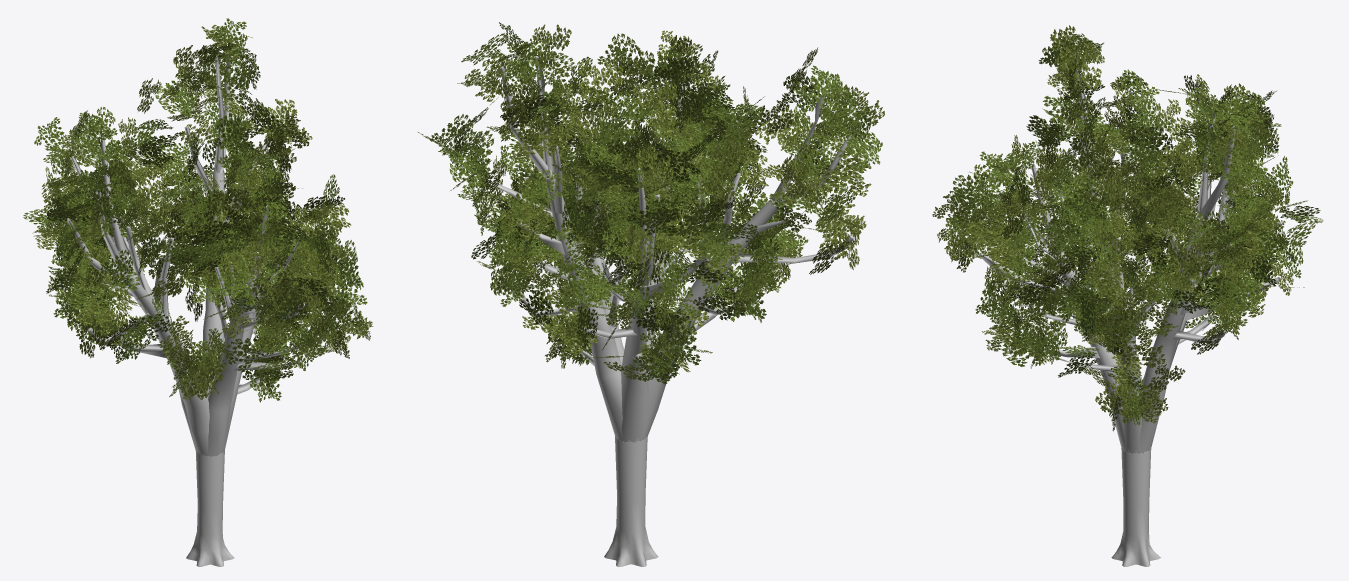
File: Sugar_Maple_Model_0.obj
3 views of the same model, side by side, from view 1: azimuth 30°, elevation 25°; view 2: azimuth 150°, elevation 25°; view 3: azimuth 270°, elevation 25° (orthographic). The views are drawn at different scales.
Parts seen in each view (by area): view 1: Foliage__leafcard, Bark; view 2: Foliage__leafcard, Bark; view 3: Foliage__leafcard, Bark.
Part boxes in pixels (x1,y1,x2,y2): Foliage__leafcard: (23, 18, 373, 402); Bark: (67, 56, 324, 566); Foliage__leafcard: (418, 22, 884, 384); Bark: (462, 56, 857, 566); Foliage__leafcard: (932, 25, 1323, 431); Bark: (979, 52, 1281, 566).
Size of the model in its own units: 21.6 by 30 by 22.13.
